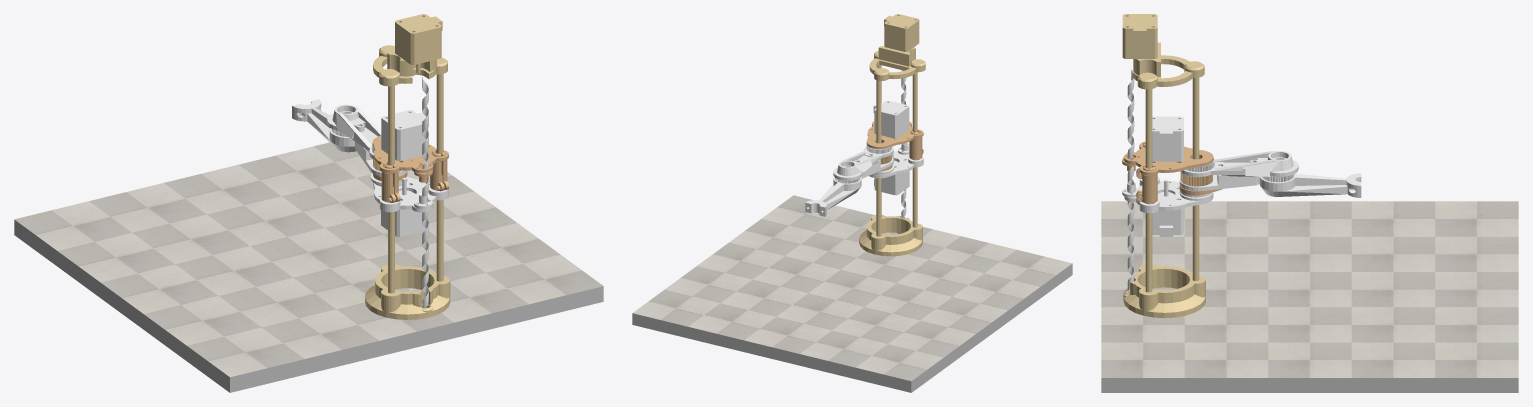
Rendered from scara_model.glb.
The picture shows the model from 3 angles, left to right: view 1: azimuth 30°, elevation 25°; view 2: azimuth 150°, elevation 25°; view 3: azimuth 270°, elevation 25°; orthographic projection. The views are drawn at different scales.
Visible parts, largest first — view 1: box__29__, box__28__, estructura__31__, base__36__, base__35__, brazo1__22__, base__38__, estructura__32__, completo__41__; view 2: box__29__, estructura__31__, box__28__, brazo1__22__, base__36__, base__38__, base__35__, completo__41__; view 3: box__29__, estructura__31__, box__28__, brazo1__22__, base__36__, base__35__, completo__41__, base__38__, estructura__32__.
Part boxes in pixels (x1=…): box__29__: x1=14, y1=142, x2=603, y2=377; box__28__: x1=14, y1=220, x2=603, y2=392; estructura__31__: x1=365, y1=14, x2=450, y2=319; base__36__: x1=370, y1=173, x2=448, y2=236; base__35__: x1=372, y1=135, x2=449, y2=202; brazo1__22__: x1=327, y1=104, x2=407, y2=176; base__38__: x1=381, y1=110, x2=428, y2=160; estructura__32__: x1=422, y1=77, x2=428, y2=308; completo__41__: x1=307, y1=103, x2=356, y2=152; box__29__: x1=632, y1=195, x2=1071, y2=381; estructura__31__: x1=859, y1=14, x2=925, y2=256; box__28__: x1=632, y1=263, x2=1072, y2=392; brazo1__22__: x1=833, y1=145, x2=893, y2=180; base__36__: x1=869, y1=143, x2=923, y2=195; base__38__: x1=873, y1=100, x2=909, y2=138; base__35__: x1=866, y1=121, x2=923, y2=159; completo__41__: x1=819, y1=177, x2=861, y2=209; box__29__: x1=1101, y1=201, x2=1518, y2=377; estructura__31__: x1=1122, y1=14, x2=1205, y2=318; box__28__: x1=1101, y1=378, x2=1518, y2=392; brazo1__22__: x1=1179, y1=151, x2=1298, y2=191; base__36__: x1=1122, y1=176, x2=1213, y2=236; base__35__: x1=1123, y1=141, x2=1213, y2=203; completo__41__: x1=1259, y1=173, x2=1353, y2=196; base__38__: x1=1152, y1=116, x2=1183, y2=161; estructura__32__: x1=1127, y1=69, x2=1134, y2=294.
Size of the model in its own units: 5 by 3.88 by 5.
6 materials, 1 textured.
